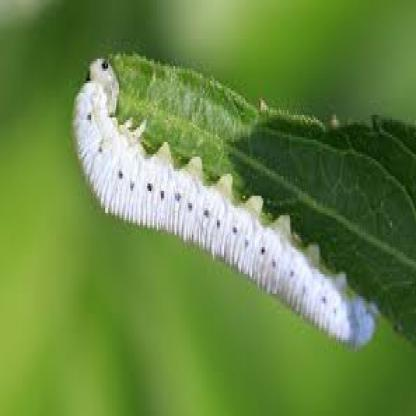sawfly: (67, 54, 384, 345)
